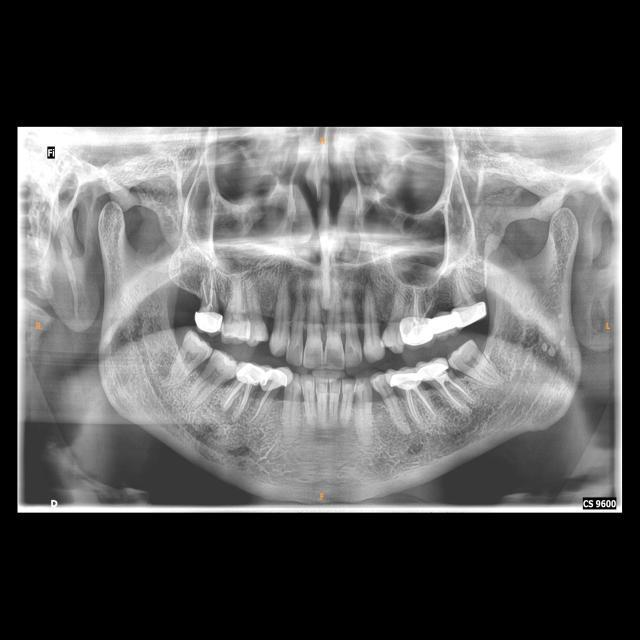kanal-tedavisi: (403, 388, 436, 423), (222, 384, 252, 415), (441, 377, 466, 409), (199, 268, 216, 307), (252, 387, 270, 422), (408, 289, 425, 318)
kaplama: (402, 316, 432, 346), (454, 300, 488, 325), (389, 367, 421, 392), (236, 361, 265, 388), (194, 310, 224, 335), (414, 359, 448, 380), (261, 367, 289, 390)
kopru: (432, 300, 459, 341)
